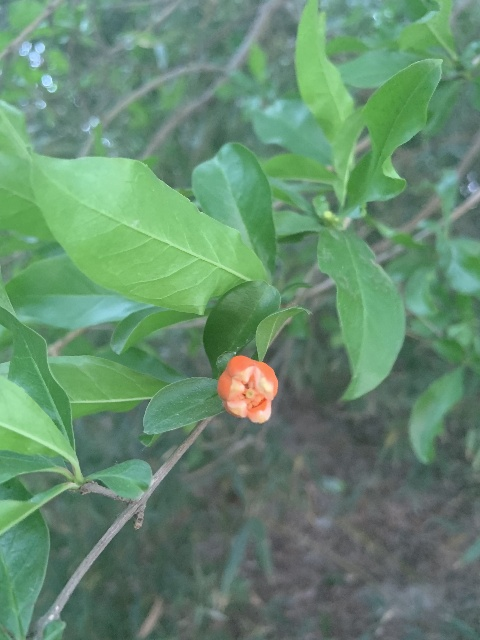flower: (217, 355, 277, 423)
